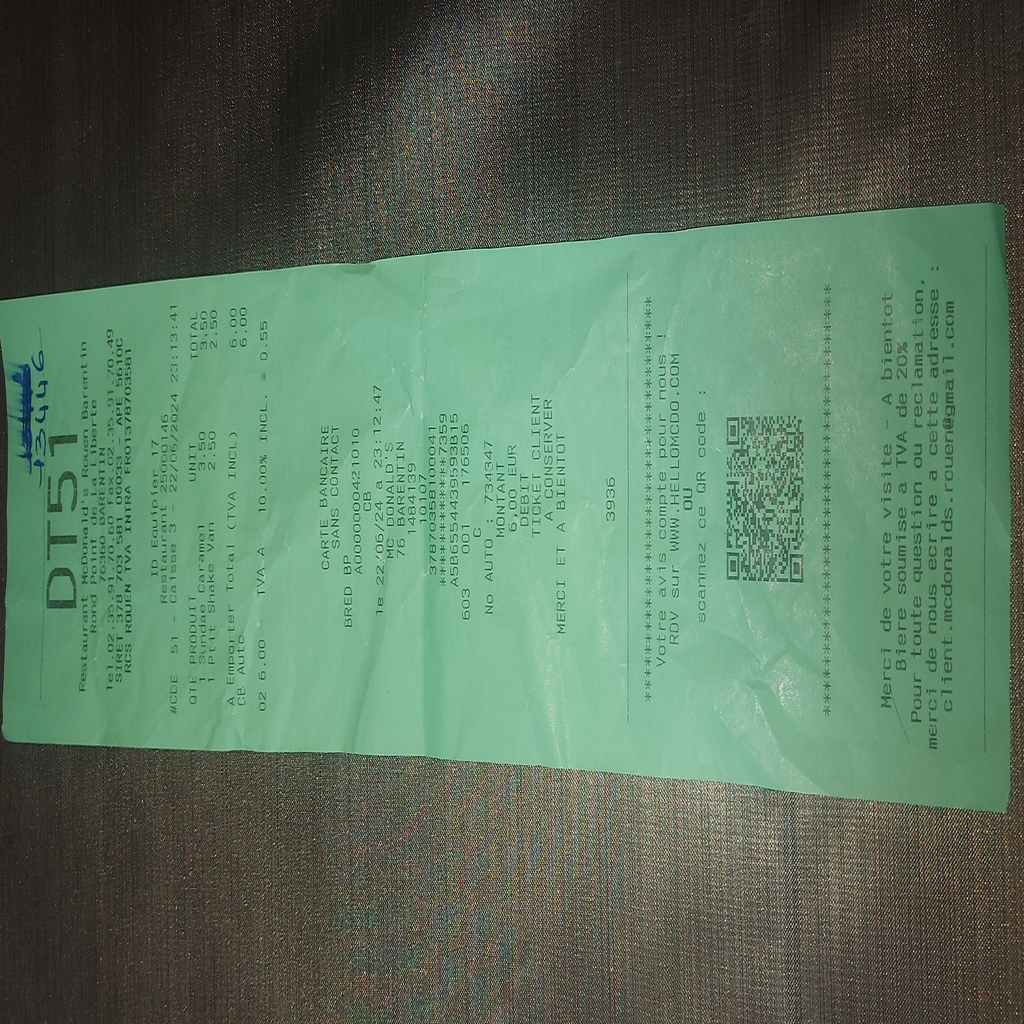recipt: (2, 203, 1014, 810)
